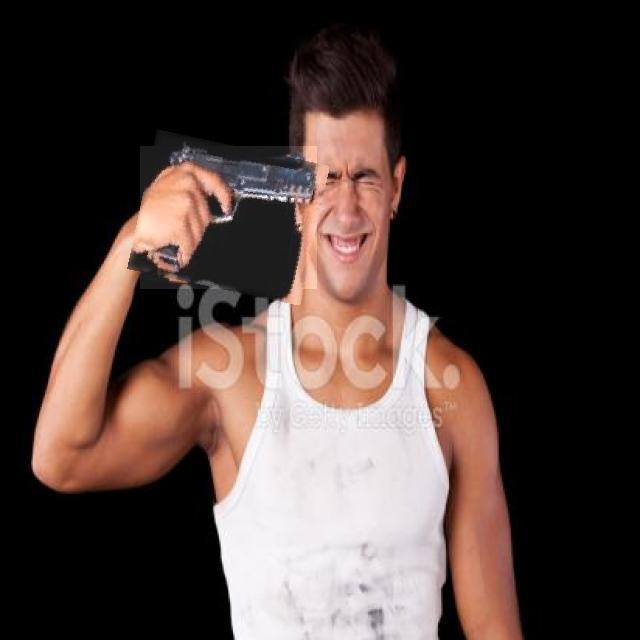handgun: (134, 138, 323, 298)
